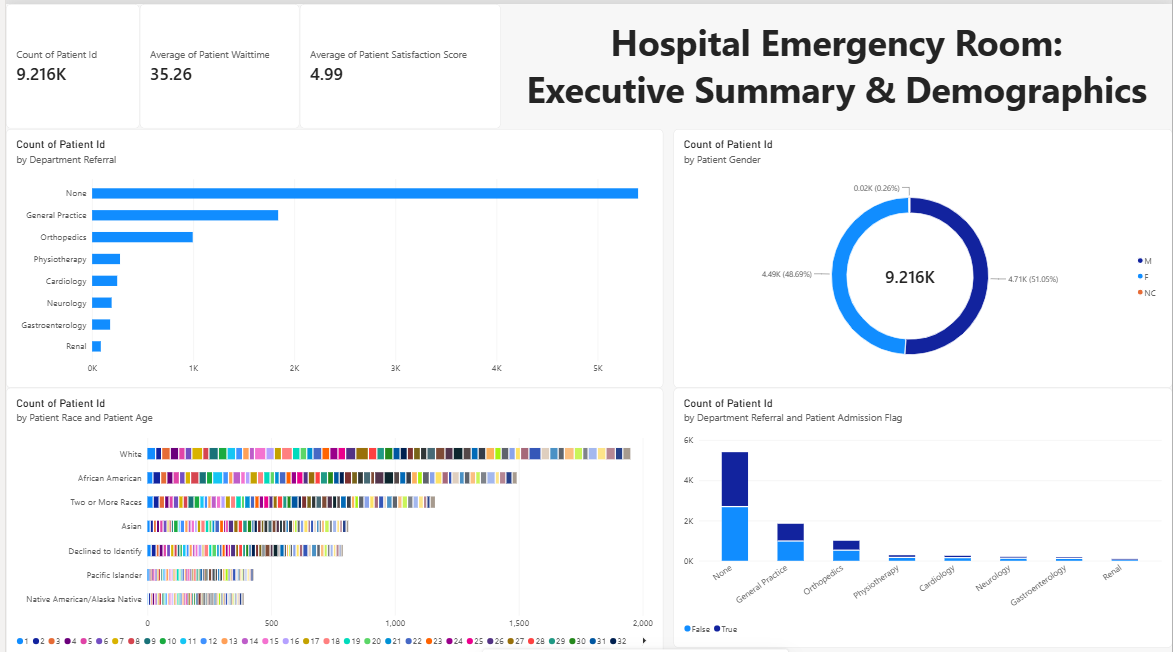

Layout of this report page (visuals, bound fields, positions):
{"tool":"powerbi","page":{"name":"Executive Summary & Demographics","canvas":[1920,1080],"ordinal":0},"visuals":[{"type":"clusteredBarChart","fields":{"Category":["Hospital ER_Data.Department Referral"],"Y":["CountNonNull(Hospital ER_Data.Patient Id)"]},"box":[0,205.8,1082.7,426.1],"z":0},{"type":"cardVisual","fields":{"Data":["CountNonNull(Hospital ER_Data.Patient Id)"]},"box":[0,0,220.2,205.8],"z":1000},{"type":"cardVisual","fields":{"Data":["Avg(Hospital ER_Data.Patient Waittime)"]},"box":[220.2,0,263.5,205.8],"z":2000},{"type":"cardVisual","fields":{"Data":["Avg(Hospital ER_Data.Patient Satisfaction Score)"]},"box":[483.7,0,331.4,205.8],"z":3000},{"type":"donutChart","fields":{"Category":["Hospital ER_Data.Patient Gender"],"Y":["CountNonNull(Hospital ER_Data.Patient Id)"]},"box":[1099.1,205.8,821.3,426.1],"z":4000},{"type":"barChart","fields":{"Category":["Hospital ER_Data.Patient Race"],"Series":["Hospital ER_Data.Patient Age"],"Y":["CountNonNull(Hospital ER_Data.Patient Id)"]},"box":[0,631.9,1082.7,448.7],"z":5000},{"type":"columnChart","fields":{"Category":["Hospital ER_Data.Department Referral"],"Series":["Hospital ER_Data.Patient Admission Flag"],"Y":["CountNonNull(Hospital ER_Data.Patient Id)"]},"box":[1099.1,631.9,821.3,428.1],"z":6000},{"type":"textbox","box":[815.1,22.6,1105.3,162.6],"z":6001}]}

Visuals, with their boxes in screenshot pixels (x1, y1, x2, y2), scaled from the page's 1920x1080 canvas onto the 1173x652 screenshot:
clusteredBarChart - Hospital ER_Data.Department Referral x CountNonNull(Hospital ER_Data.Patient Id): rect(0, 124, 661, 381)
cardVisual - CountNonNull(Hospital ER_Data.Patient Id): rect(0, 0, 135, 124)
cardVisual - Avg(Hospital ER_Data.Patient Waittime): rect(135, 0, 296, 124)
cardVisual - Avg(Hospital ER_Data.Patient Satisfaction Score): rect(296, 0, 498, 124)
donutChart - Hospital ER_Data.Patient Gender x CountNonNull(Hospital ER_Data.Patient Id): rect(671, 124, 1172, 381)
barChart - Hospital ER_Data.Patient Race x Hospital ER_Data.Patient Age: rect(0, 381, 661, 651)
columnChart - Hospital ER_Data.Department Referral x Hospital ER_Data.Patient Admission Flag: rect(671, 381, 1172, 640)
textbox: rect(498, 14, 1172, 112)
